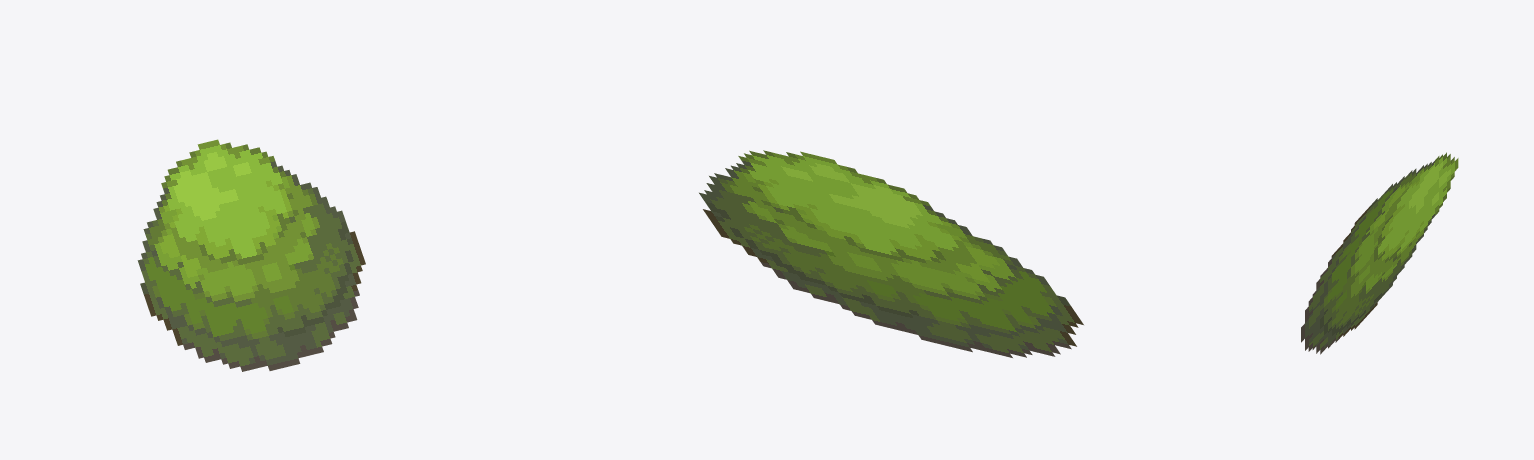
The model's file is kanto-tree.glb.
3 views of the same model, side by side, from view 1: azimuth 30°, elevation 25°; view 2: azimuth 150°, elevation 25°; view 3: azimuth 270°, elevation 25° (orthographic). The views are drawn at different scales.
Parts seen in each view (by area): view 1: kanto-tree; view 2: kanto-tree; view 3: kanto-tree.
Boxes of the visible parts, left/top/right/bottom form: kanto-tree: left=137, top=139, right=365, bottom=371; kanto-tree: left=699, top=150, right=1083, bottom=357; kanto-tree: left=1301, top=152, right=1458, bottom=354.
Size of the model in its own units: 64 by 49.34 by 40.77.
Materials: 1 (1 with a texture image).
